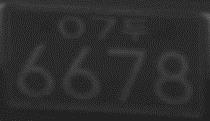0: (57, 14, 87, 40)
6: (61, 46, 101, 102), (16, 44, 55, 99)
7: (107, 47, 147, 101), (91, 15, 116, 40)
8: (153, 49, 193, 106)
두: (120, 17, 150, 41)
